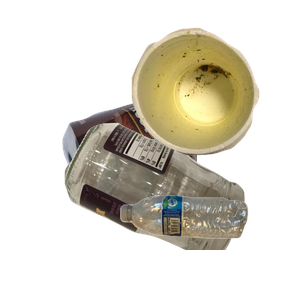glass: (62, 120, 300, 300)
metal: (60, 79, 300, 259)
plastic: (118, 193, 300, 300)
trash: (129, 25, 300, 173)
